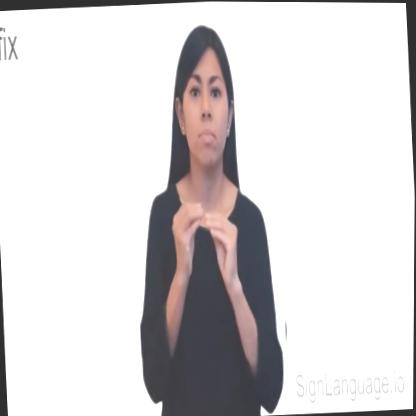Fix: (124, 18, 291, 416)
